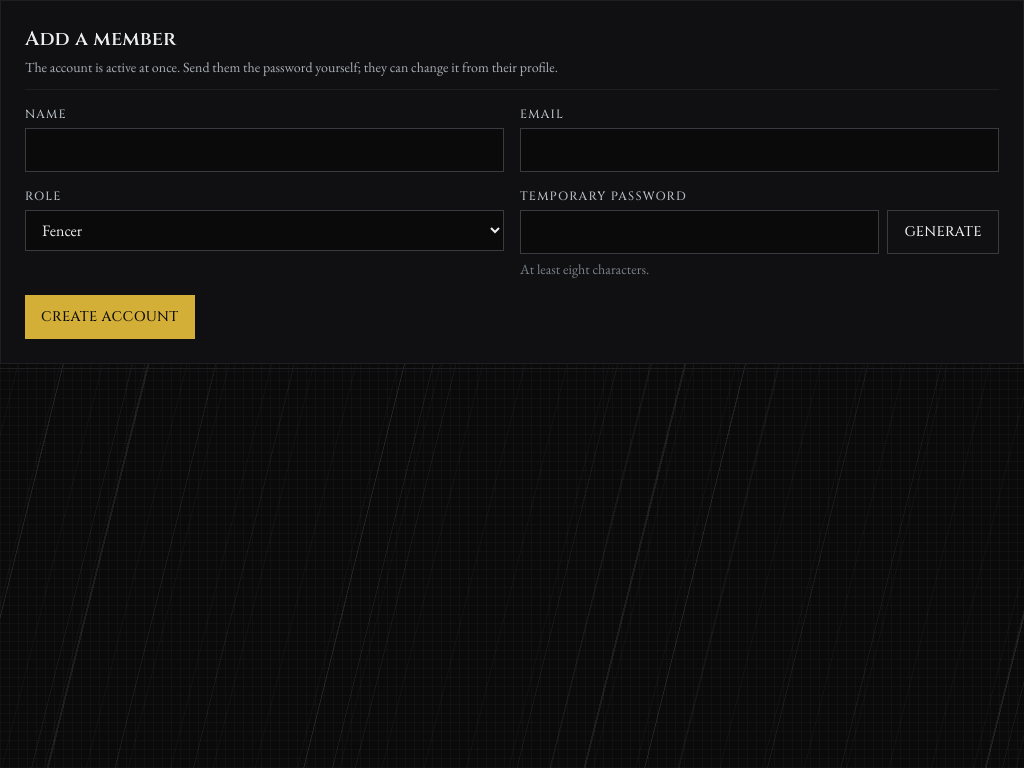
Test: AddMemberForm › sends the account to the create-member function and shows what to pass on
Type "Yiling Ku" into the field labelled "Name" at (264, 150), box [25,128,504,172]
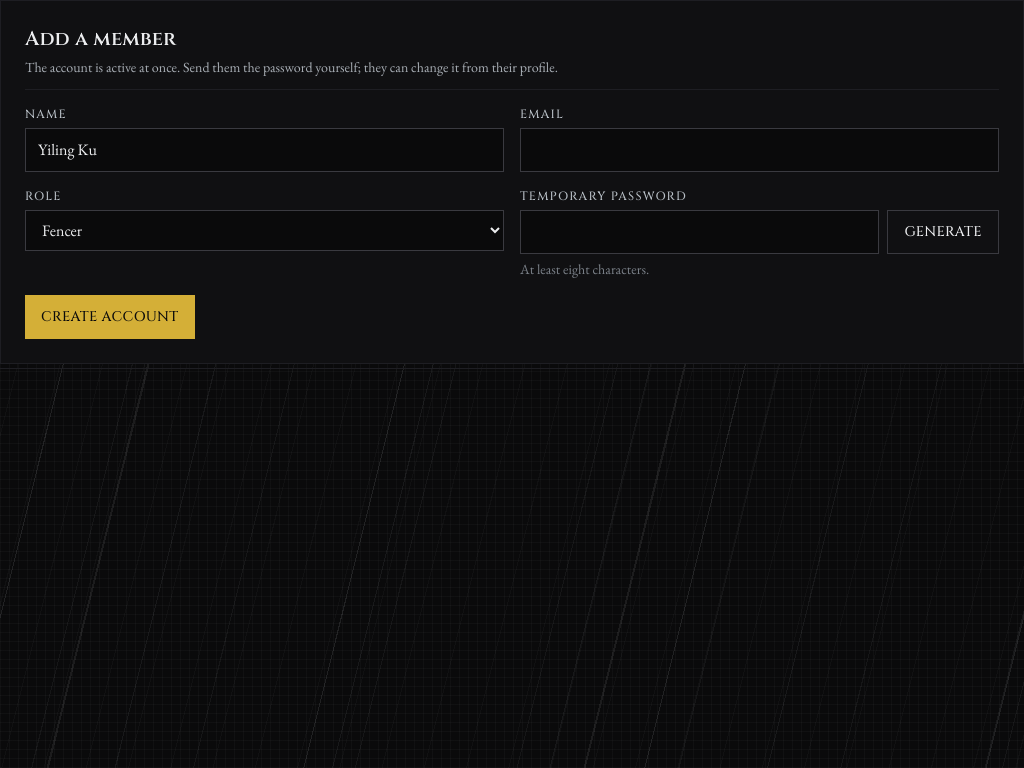
Type "yiling@example.com" into the field labelled "Email" at (760, 150), box [520,128,999,172]
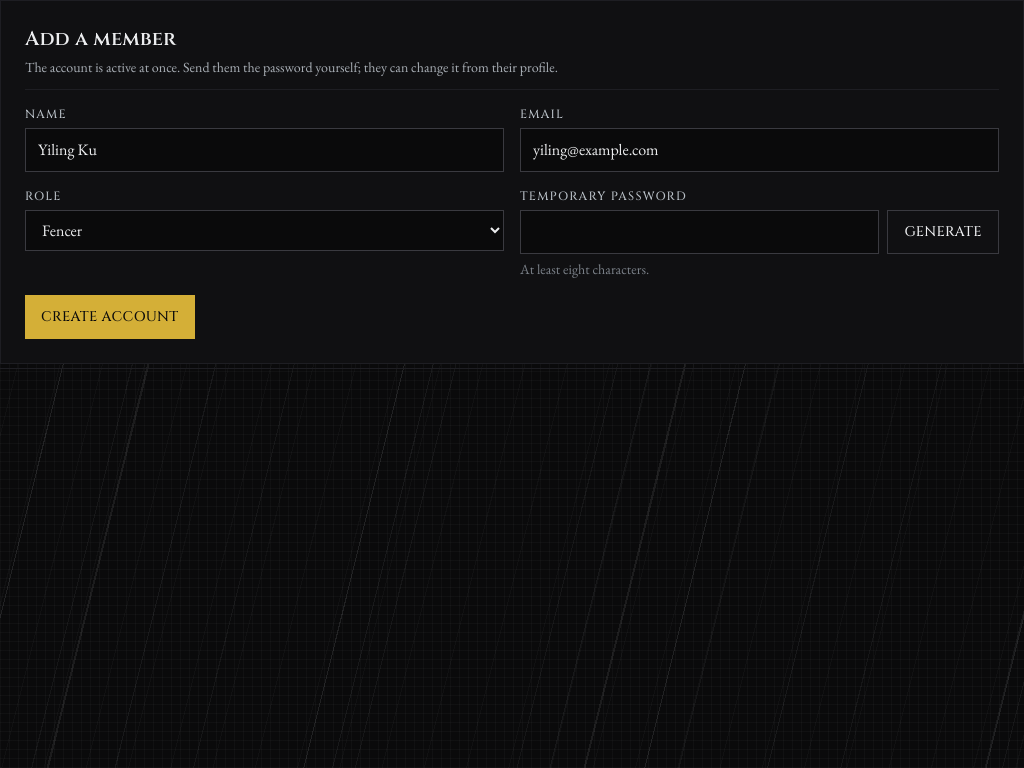
Select "Coach" in the dropdown labelled "Role" at (264, 230), box [25,210,504,251]
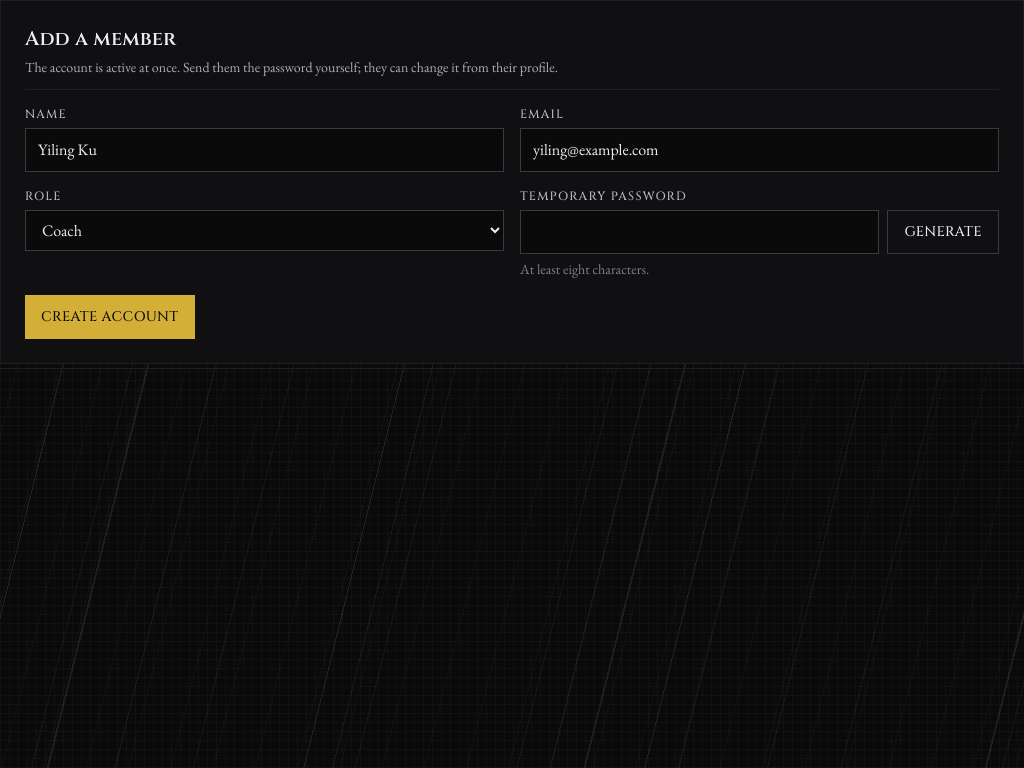
Type "en-garde-8" into the field labelled "Temporary password" at (700, 232), box [520,210,879,254]
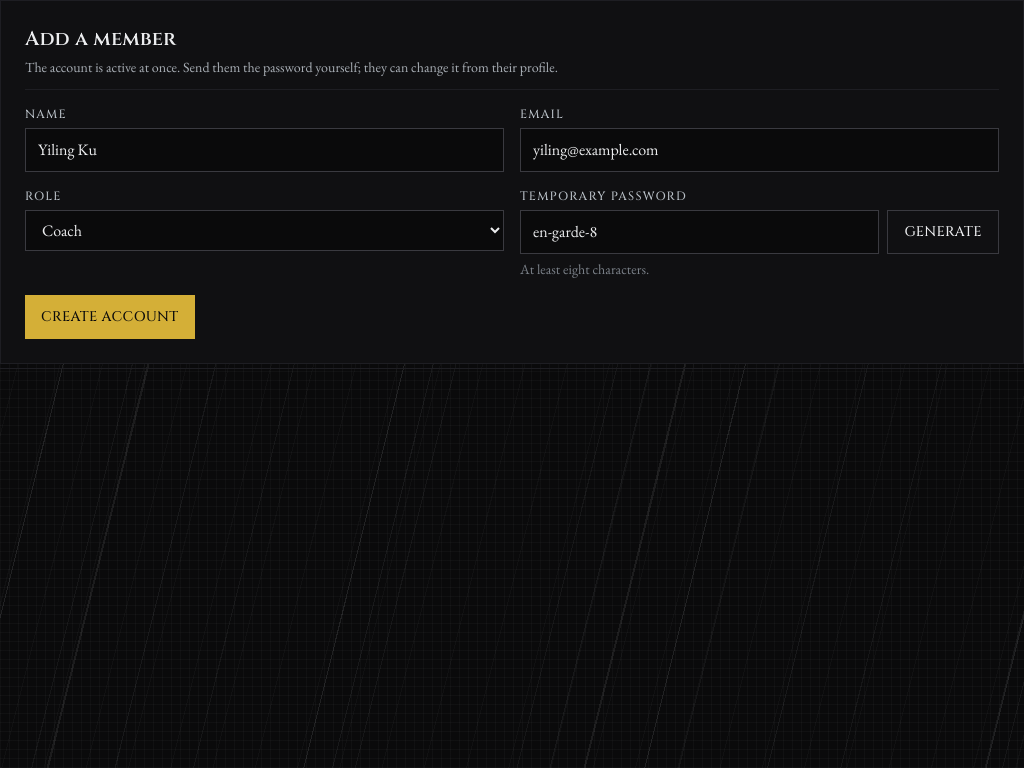
Click the button "Create account" at (110, 317), box [25,295,194,339]
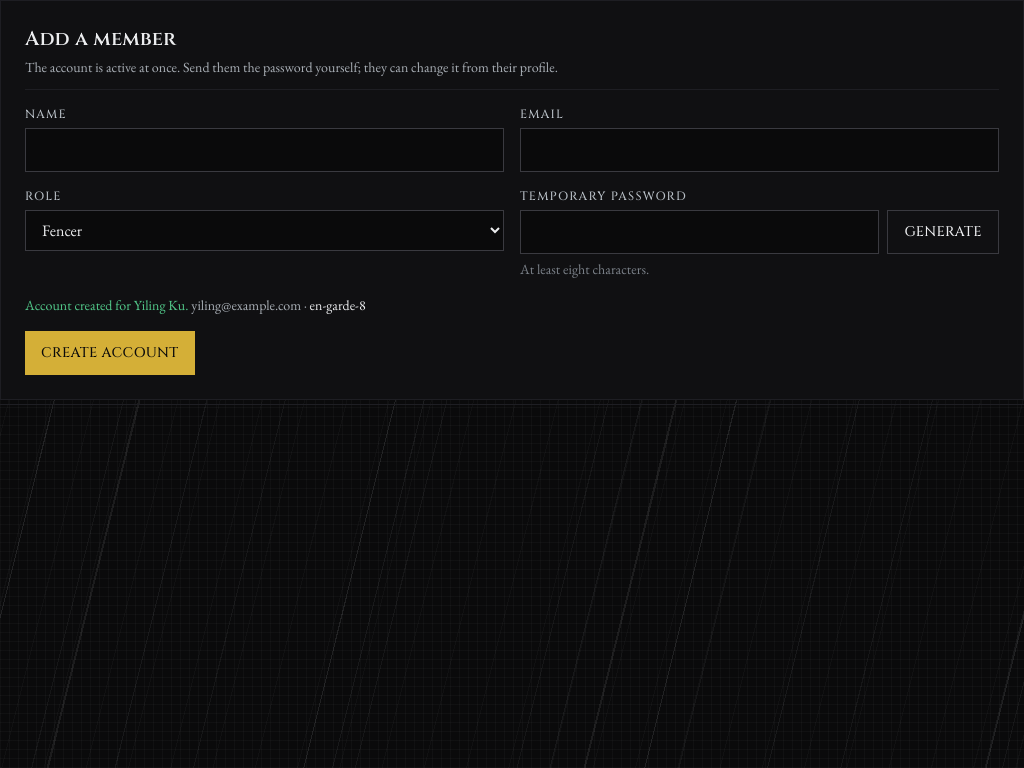
Expected: the message shows "Account created for Yiling Ku.", [25,296,188,314]
Expected: the message shows "en-garde-8", [310,296,366,314]
Expected: the field labelled "Name" is empty, [25,128,504,172]
